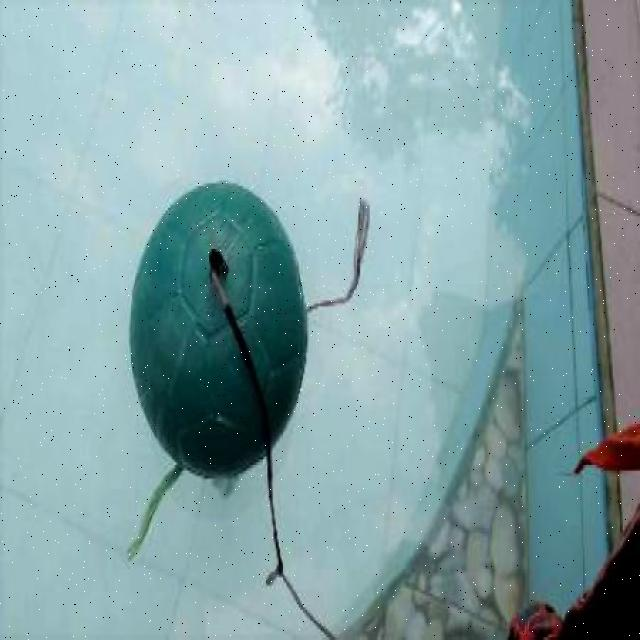buoy: (130, 182, 308, 479)
